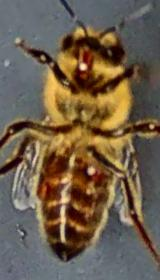varroa_mite: (28, 163, 56, 205), (76, 153, 106, 184)
